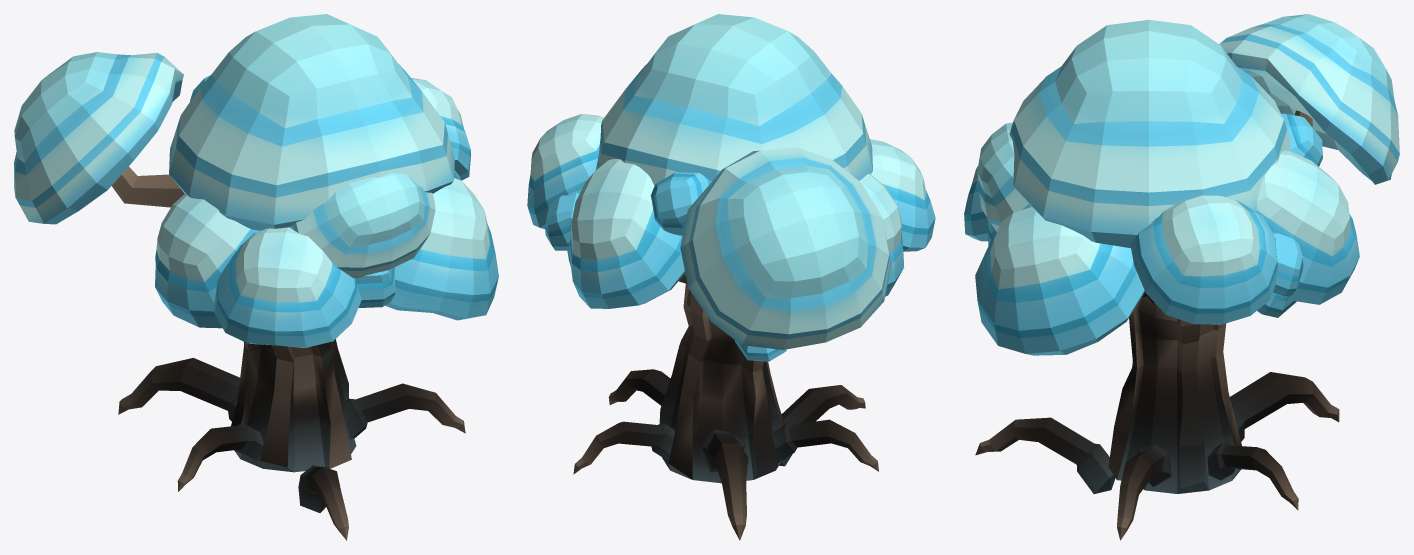
File: Tree_Large_H.fbx
3 views of the same model, side by side, from view 1: azimuth 30°, elevation 25°; view 2: azimuth 150°, elevation 25°; view 3: azimuth 270°, elevation 25° (orthographic). The views are drawn at different scales.
Parts seen in each view (by area): view 1: Tree_Large_H; view 2: Tree_Large_H; view 3: Tree_Large_H.
Part boxes in pixels (<box>): Tree_Large_H: <box>14,14,498,540</box>; Tree_Large_H: <box>527,14,935,540</box>; Tree_Large_H: <box>964,14,1399,540</box>.
Size of the model in its own units: 279 by 317 by 265.
